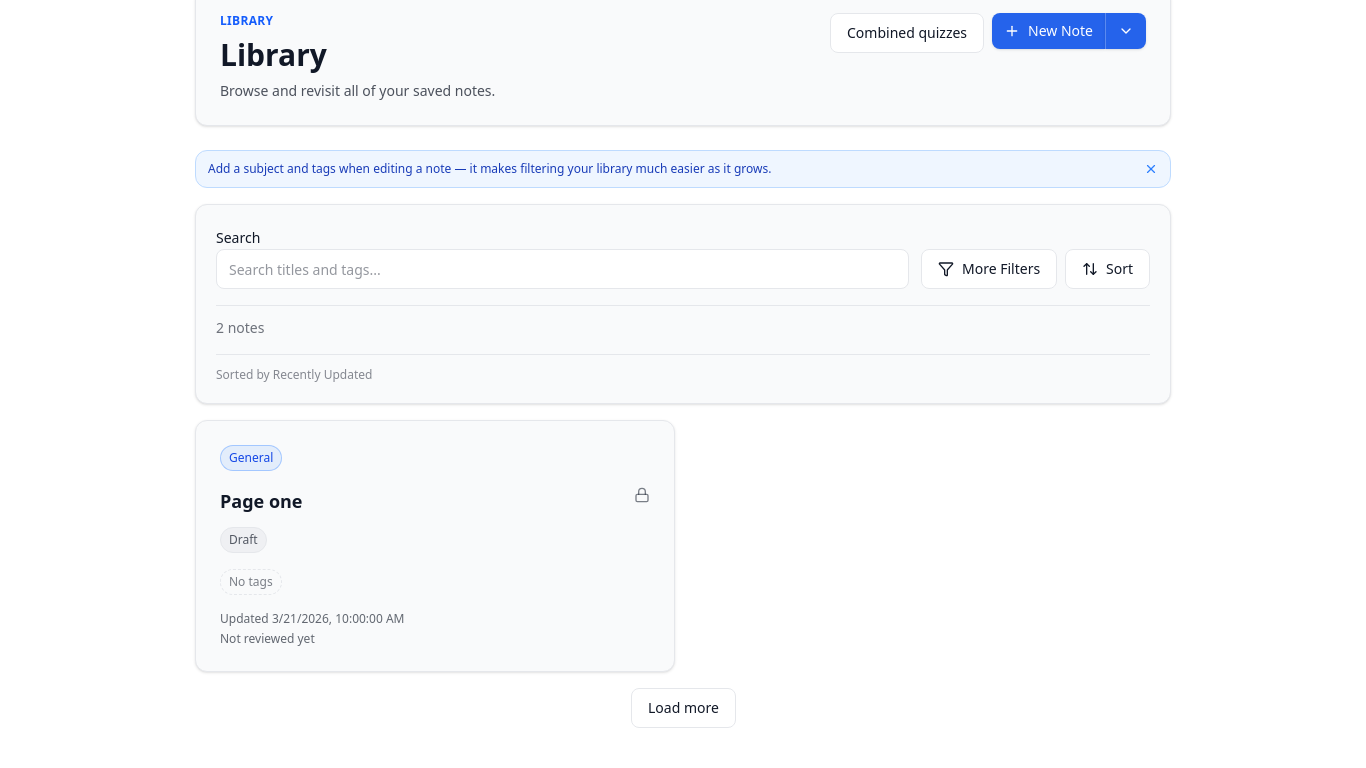
Test case: Library page › keeps loaded notes and shows a toast when Load more fails
(page scrolled)
Expected: the heading "Page one" is shown, x1=220 y1=489 x2=302 y2=513
Click the button "Load more" at (683, 708), box x1=631 y1=688 x2=736 y2=728
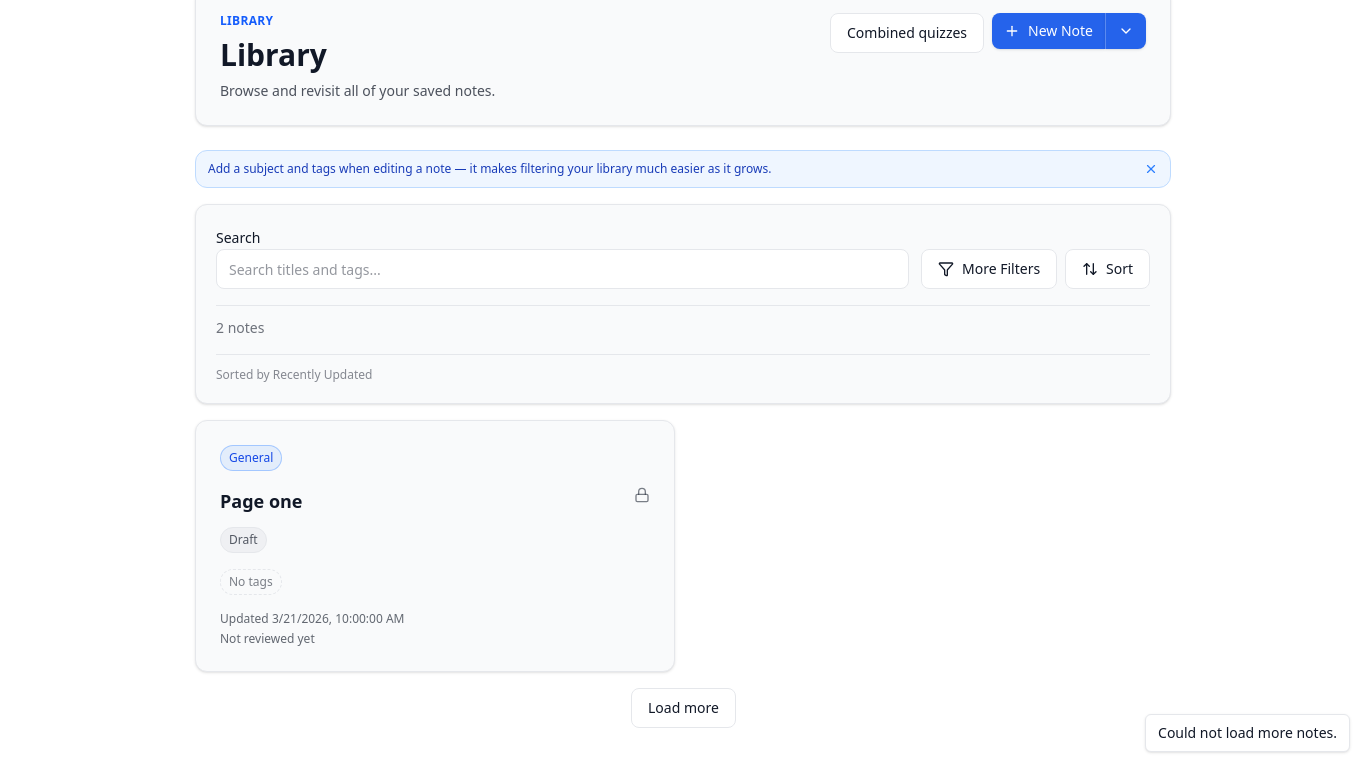
Expected: the heading "Page one" is shown, x1=220 y1=489 x2=302 y2=513
Result: the text "Could not load more notes." is shown at x1=1145 y1=714 x2=1350 y2=752
